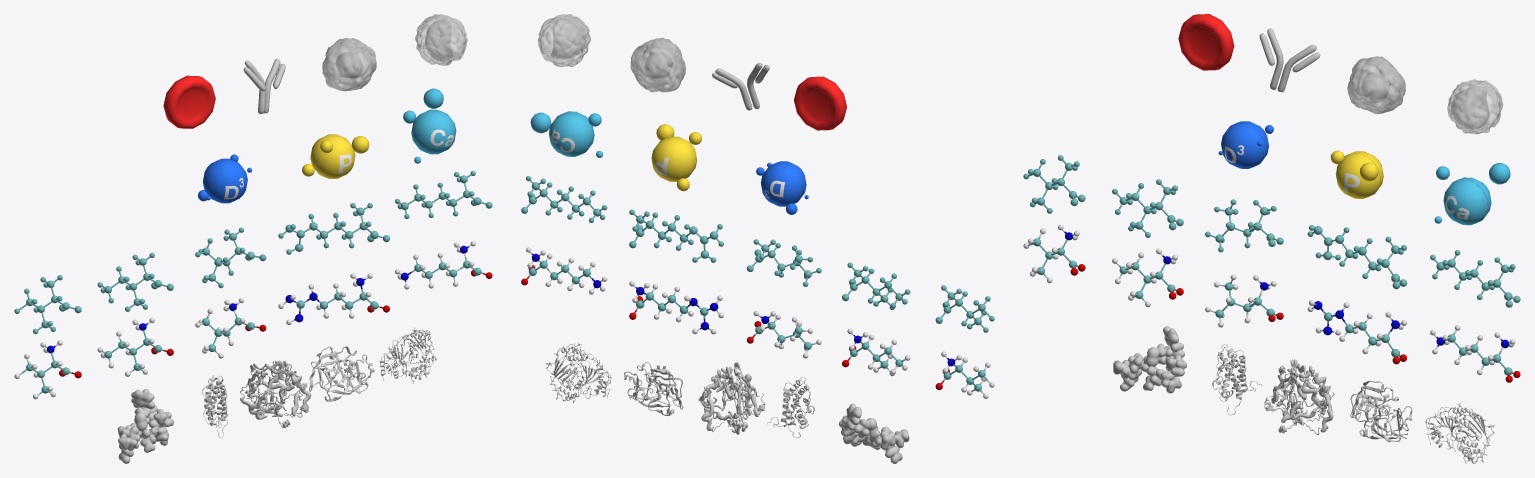
The model's file is Particulas_piezas_varias.fbx.
3 renders of one model, left to right at view 1: azimuth 30°, elevation 25°; view 2: azimuth 150°, elevation 25°; view 3: azimuth 330°, elevation 25°, orthographic. The views are drawn at different scales.
Visible parts, largest first — view 1: Enzima_pepsina, citocinas, Oxitocina, Globulo_rojos, linfocitos, Particulas_Calcio, Particulas_Fosforo, Particulas_Vitamina_D, Enzima_tripsina, Suero_leche, arginina.001, arginina (+10 smaller); view 2: Enzima_pepsina, citocinas, Globulo_rojos, linfocitos, Particulas_Calcio, Particulas_Fosforo, Oxitocina, Particulas_Vitamina_D, Suero_leche, Enzima_tripsina, arginina.001, arginina (+10 smaller); view 3: Enzima_pepsina, Oxitocina, citocinas, Globulo_rojos, Particulas_Calcio, linfocitos, Particulas_Fosforo, Particulas_Vitamina_D, Enzima_tripsina, Suero_leche, arginina, inmunoglobulinas (+10 smaller).
Boxes of the visible parts, bbox=[...] form: Enzima_pepsina: bbox=[240, 360, 311, 427]; citocinas: bbox=[322, 38, 376, 91]; Oxitocina: bbox=[117, 389, 174, 463]; Globulo_rojos: bbox=[163, 75, 215, 128]; linfocitos: bbox=[415, 14, 467, 65]; Particulas_Calcio: bbox=[403, 88, 456, 163]; Particulas_Fosforo: bbox=[302, 134, 369, 178]; Particulas_Vitamina_D: bbox=[198, 154, 251, 203]; Enzima_tripsina: bbox=[309, 346, 374, 401]; Suero_leche: bbox=[379, 327, 436, 383]; arginina.001: bbox=[278, 203, 389, 254]; arginina: bbox=[278, 273, 389, 324]; Enzima_pepsina: bbox=[698, 362, 764, 434]; citocinas: bbox=[630, 37, 686, 92]; Globulo_rojos: bbox=[794, 76, 846, 130]; linfocitos: bbox=[537, 14, 590, 67]; Particulas_Calcio: bbox=[530, 111, 602, 157]; Particulas_Fosforo: bbox=[651, 124, 701, 191]; Oxitocina: bbox=[838, 403, 909, 463]; Particulas_Vitamina_D: bbox=[756, 161, 808, 214]; Suero_leche: bbox=[545, 342, 612, 403]; Enzima_tripsina: bbox=[624, 362, 683, 415]; arginina.001: bbox=[629, 209, 723, 262]; arginina: bbox=[629, 281, 723, 334]; Enzima_pepsina: bbox=[1264, 359, 1334, 434]; Oxitocina: bbox=[1113, 326, 1187, 393]; citocinas: bbox=[1347, 56, 1405, 114]; Globulo_rojos: bbox=[1178, 14, 1234, 70]; Particulas_Calcio: bbox=[1434, 163, 1510, 225]; linfocitos: bbox=[1447, 79, 1503, 134]; Particulas_Fosforo: bbox=[1330, 150, 1383, 198]; Particulas_Vitamina_D: bbox=[1218, 121, 1273, 168]; Enzima_tripsina: bbox=[1350, 380, 1412, 442]; Suero_leche: bbox=[1425, 403, 1494, 463]; arginina: bbox=[1307, 300, 1407, 364]; inmunoglobulinas: bbox=[1259, 28, 1320, 92].
Size of the model in its own units: 755 by 573 by 105.
